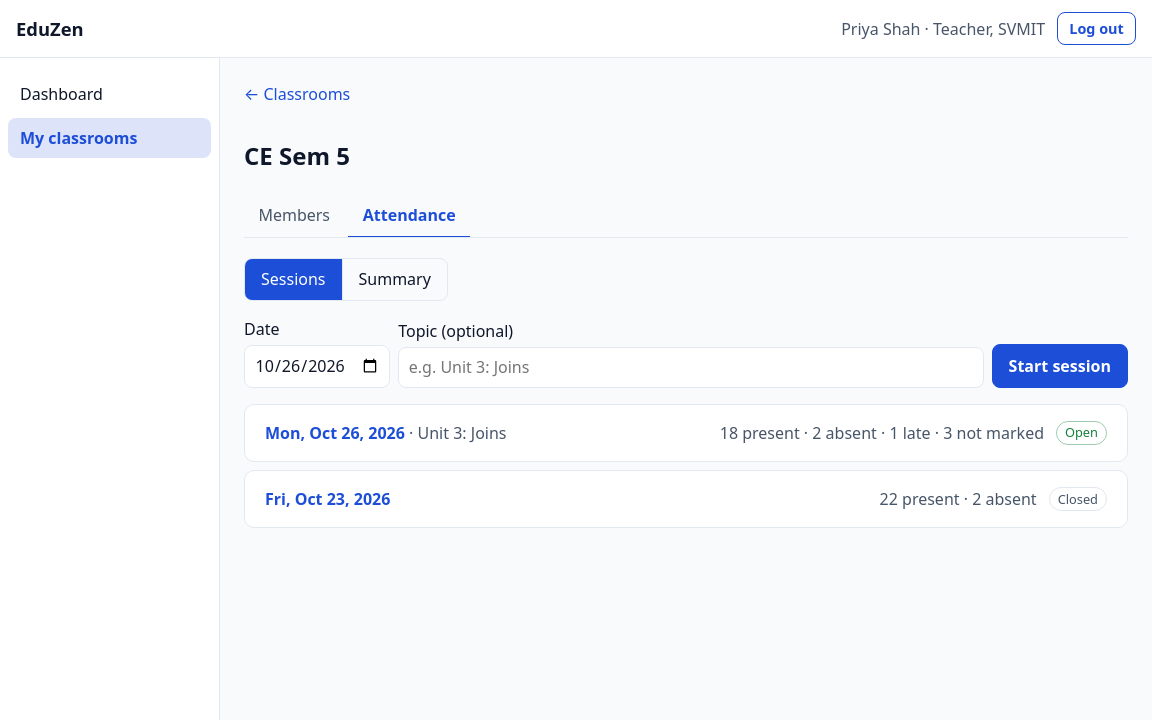
Test: Attendance tab › shows the server's message when a session can't be started
Click the button "Start session" at (1060, 366), box [992, 344, 1128, 388]
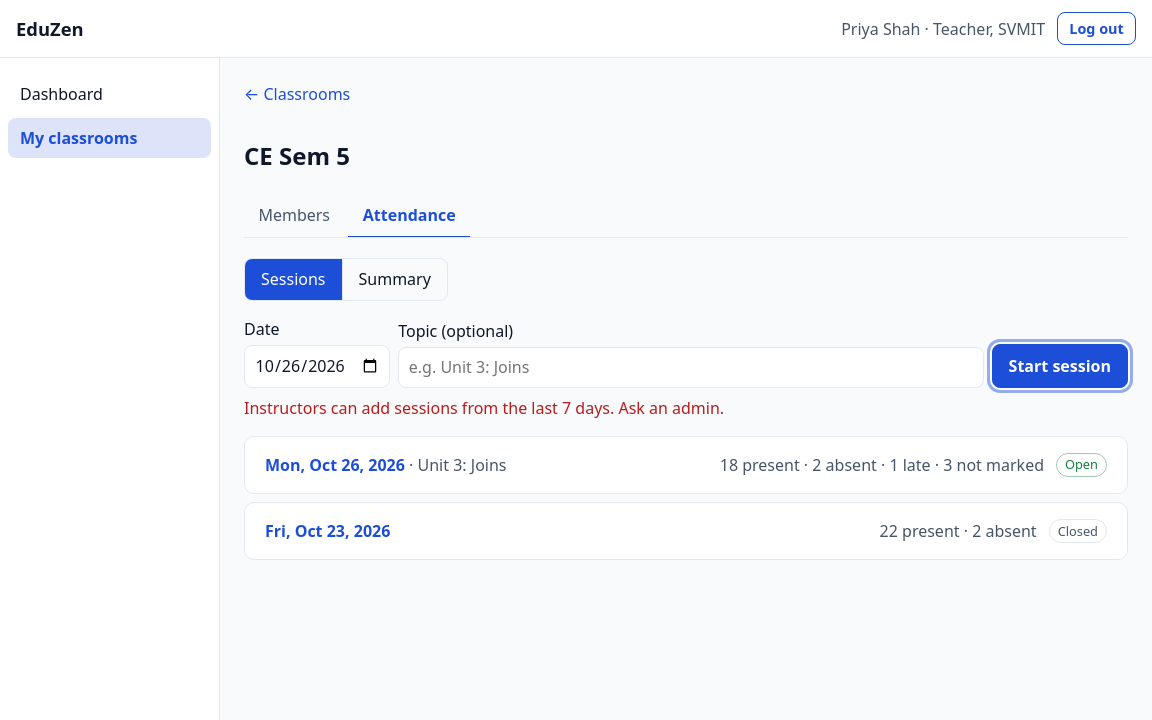
Expected: the message shows "last 7 days", [244, 397, 724, 419]
